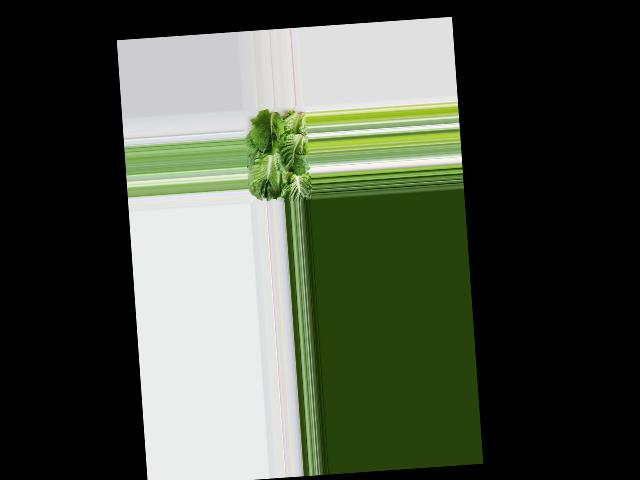lettuce: (245, 108, 313, 202)
